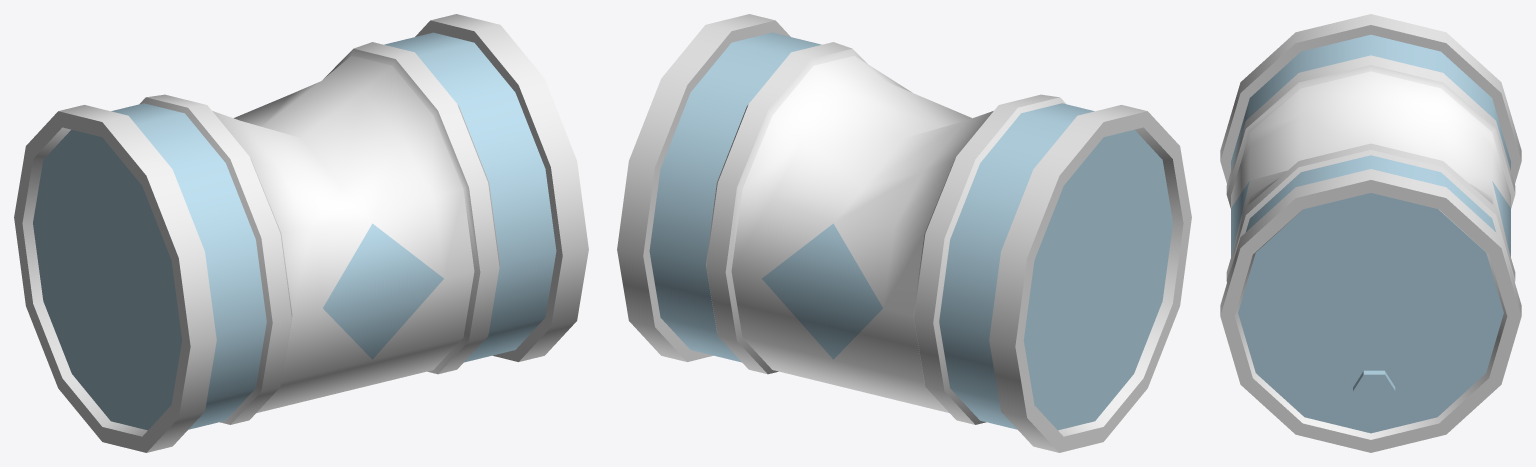
The model's file is ExplodingBarrel_Spilled.fbx.
3 renders of one model, left to right at view 1: azimuth 30°, elevation 25°; view 2: azimuth 150°, elevation 25°; view 3: azimuth 270°, elevation 25°, orthographic. The views are drawn at different scales.
Visible parts, largest first — view 1: ExplodingBarrel_Spilled; view 2: ExplodingBarrel_Spilled; view 3: ExplodingBarrel_Spilled.
Boxes of the visible parts, x1=… form: ExplodingBarrel_Spilled: x1=14, y1=14, x2=588, y2=452; ExplodingBarrel_Spilled: x1=617, y1=14, x2=1191, y2=452; ExplodingBarrel_Spilled: x1=1220, y1=14, x2=1521, y2=452.
Bounding box in the file's own units: 1.02 × 0.785 × 0.785.
